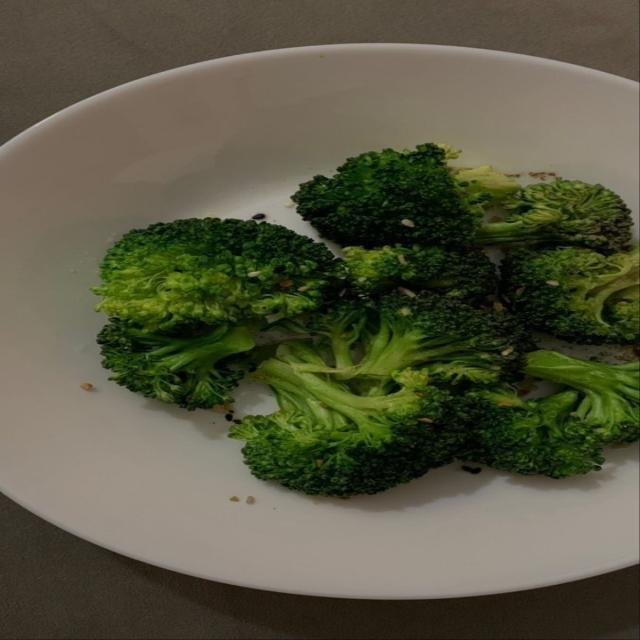broccoli: (293, 143, 632, 250), (230, 341, 460, 496), (93, 218, 339, 331), (458, 350, 639, 477), (294, 294, 531, 388), (293, 143, 489, 247), (97, 319, 255, 410), (502, 246, 639, 343), (458, 388, 603, 478), (475, 178, 632, 250), (526, 350, 639, 443), (344, 245, 497, 303), (452, 166, 520, 205)
